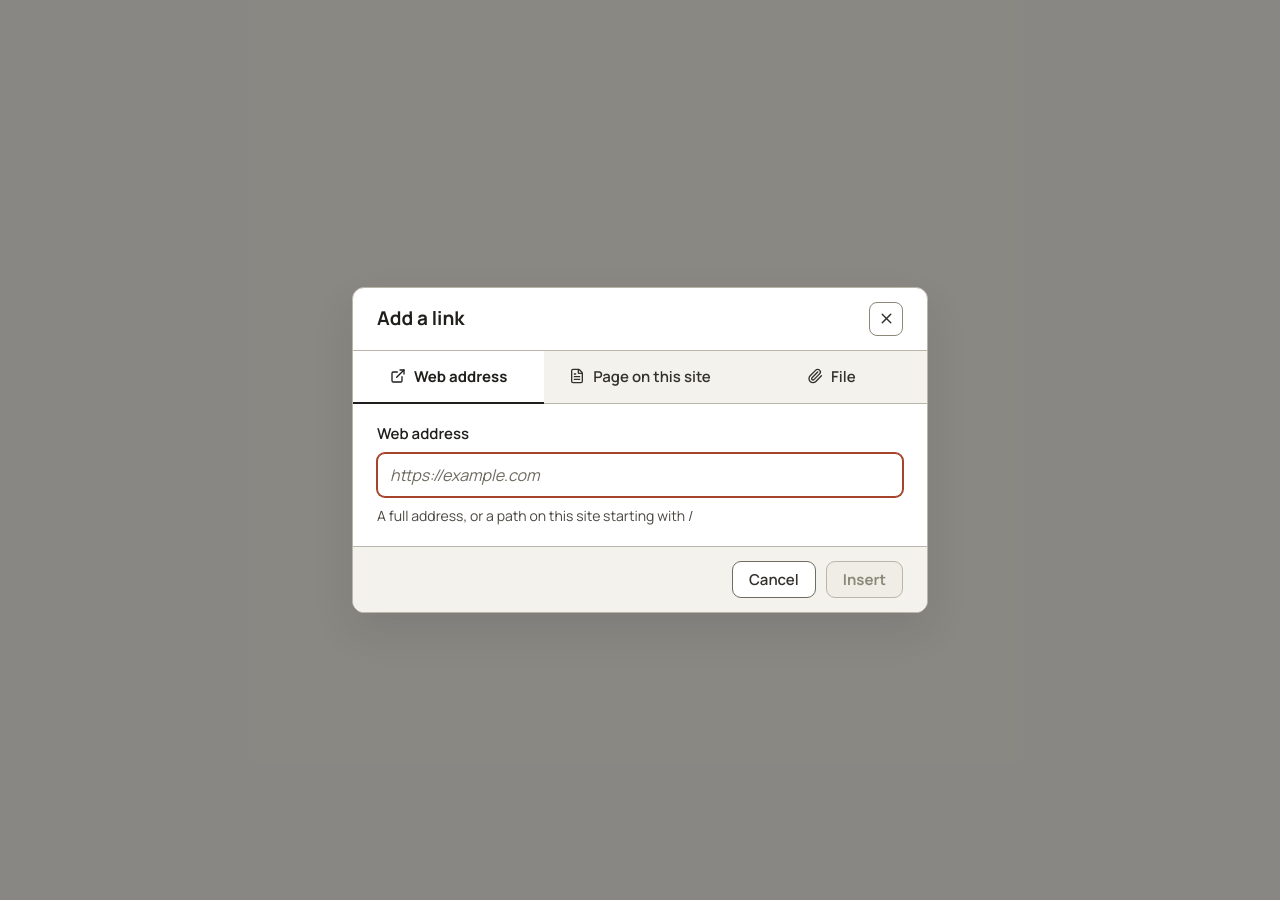
Scenario: LinkModal file links › filters the list by filename
Click the tab "File" at x=831, y=377, box [736,351,927,404]
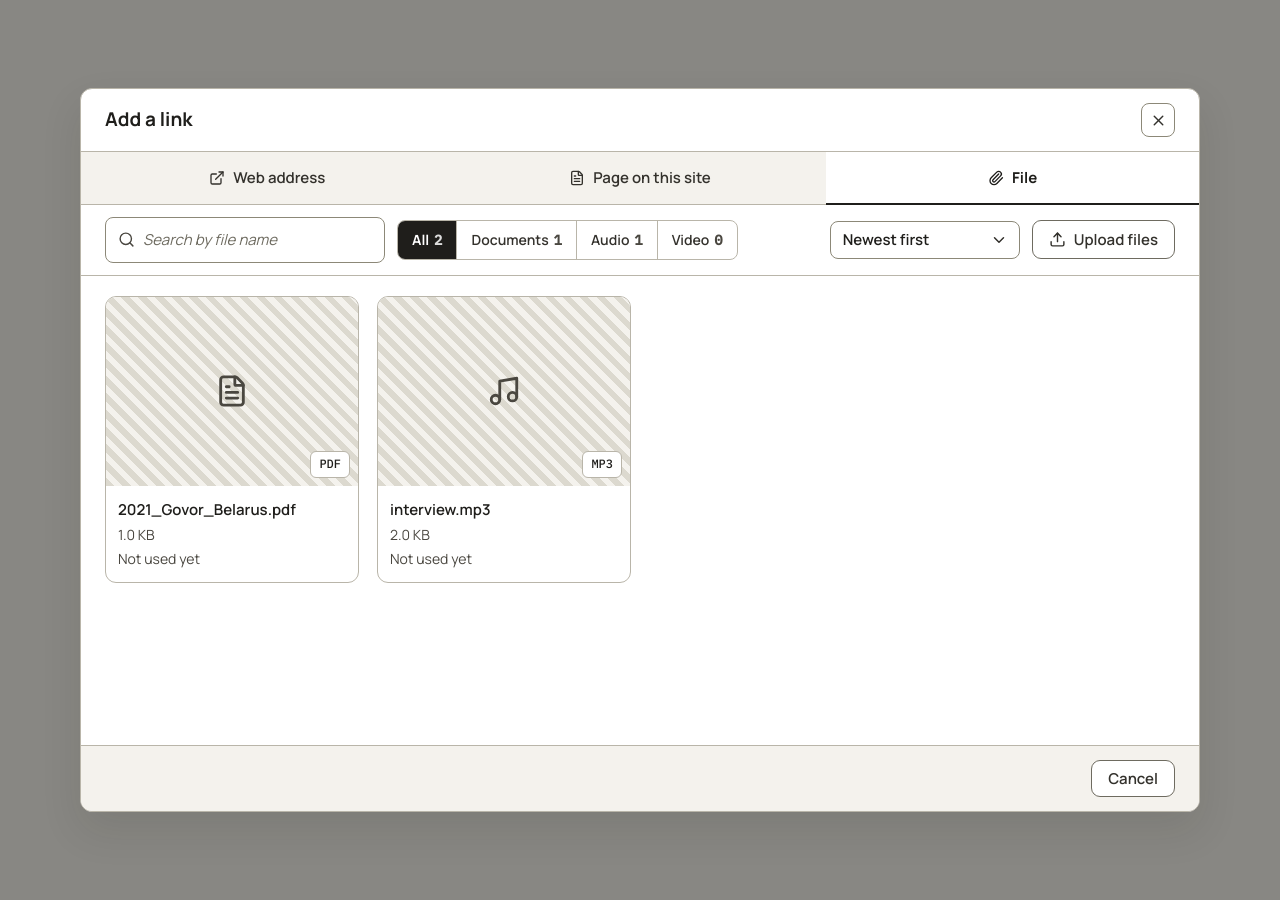
expect the text "2021_Govor_Belarus.pdf" is shown: met, box [118,498,296,519]
Type "belarus" into the search field labelled "Search by file name" at x=260, y=240, box [143,218,378,261]
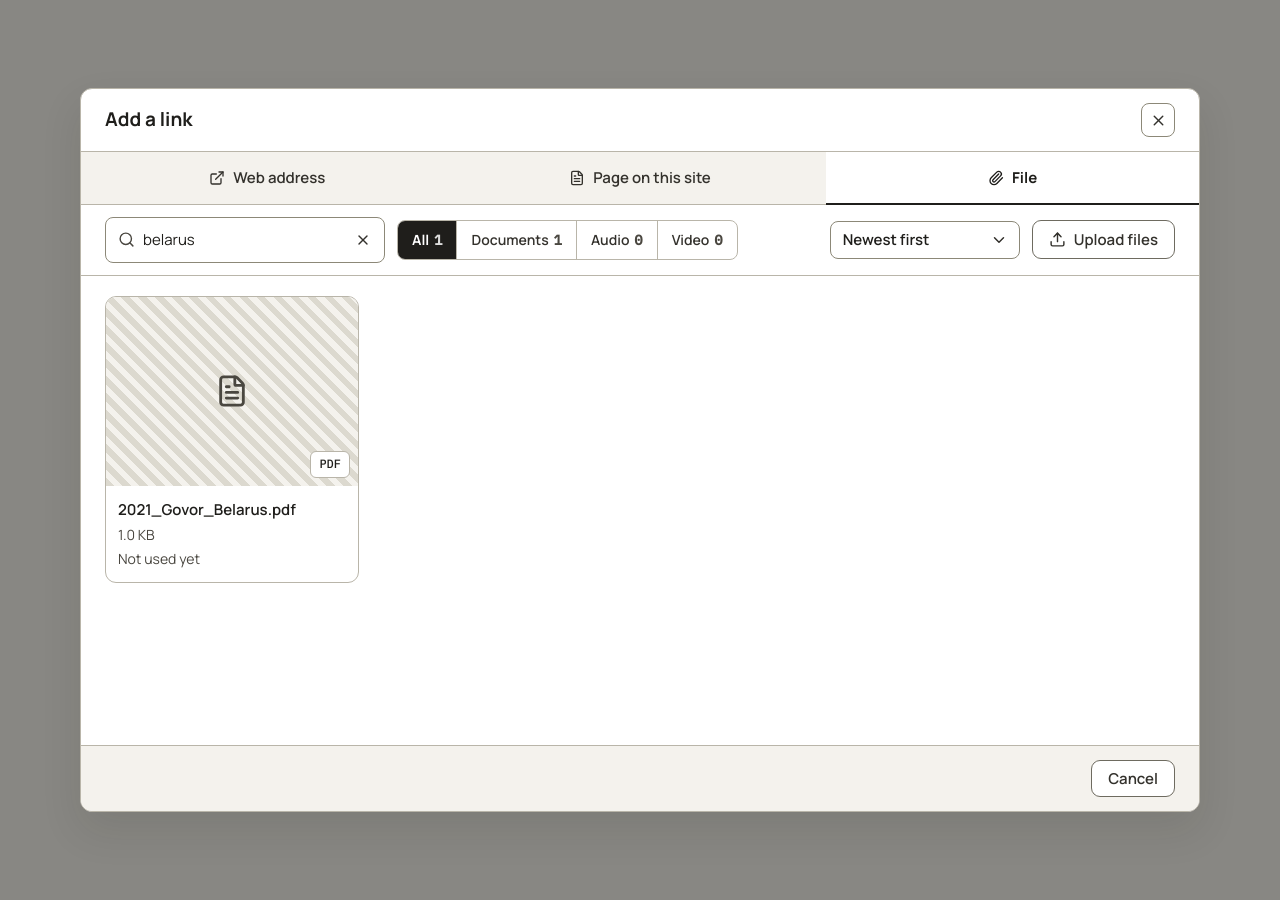
expect the text "2021_Govor_Belarus.pdf" is shown: met, box [118,498,296,519]
expect the button "interview.mp3" is gone: met
